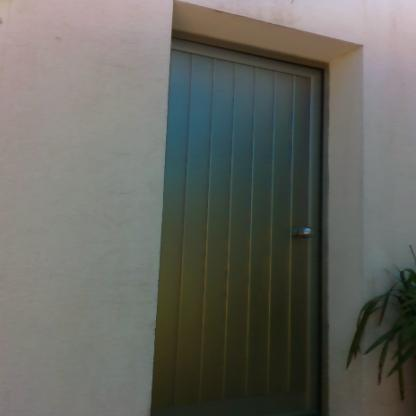door: (173, 36, 325, 414)
knob: (300, 223, 318, 242)
